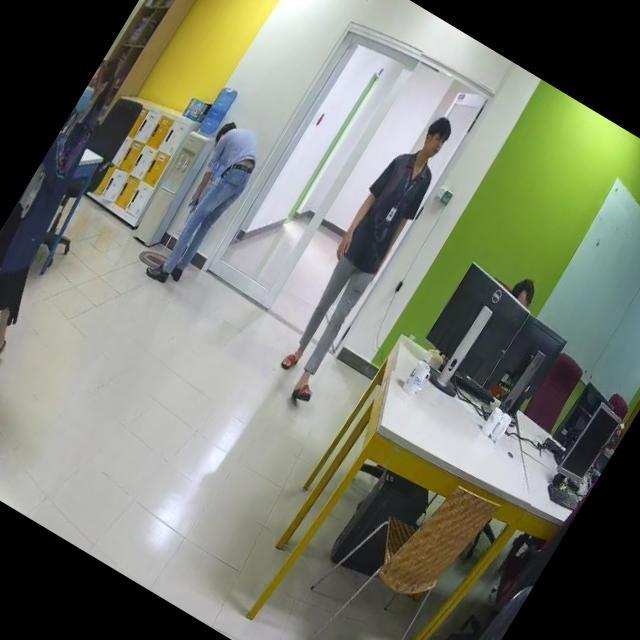person: (258, 107, 470, 410), (0, 52, 165, 419), (137, 116, 272, 294)
